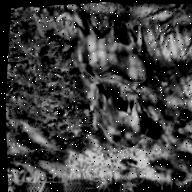boar: (67, 26, 165, 87), (87, 89, 157, 157)
